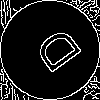D: (25, 25, 84, 81)
